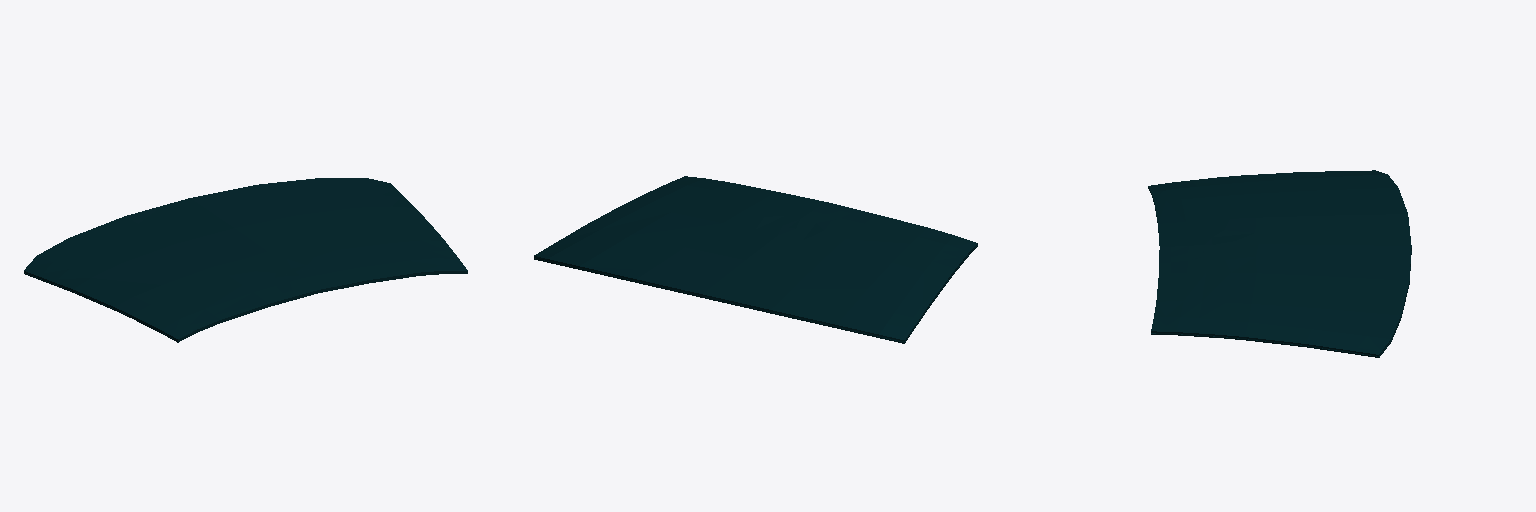
Rendered from Windshield.obj.
3 renders of one model, left to right at view 1: azimuth 30°, elevation 25°; view 2: azimuth 150°, elevation 25°; view 3: azimuth 270°, elevation 25°, orthographic.
Visible parts, largest first — view 1: cam; view 2: cam; view 3: cam.
Part boxes in pixels (bbox=[...]): cam: bbox=[24, 178, 467, 342]; cam: bbox=[534, 176, 977, 343]; cam: bbox=[1148, 170, 1411, 357].
Bounding box in the file's own units: 16.02 × 1.01 × 9.9.